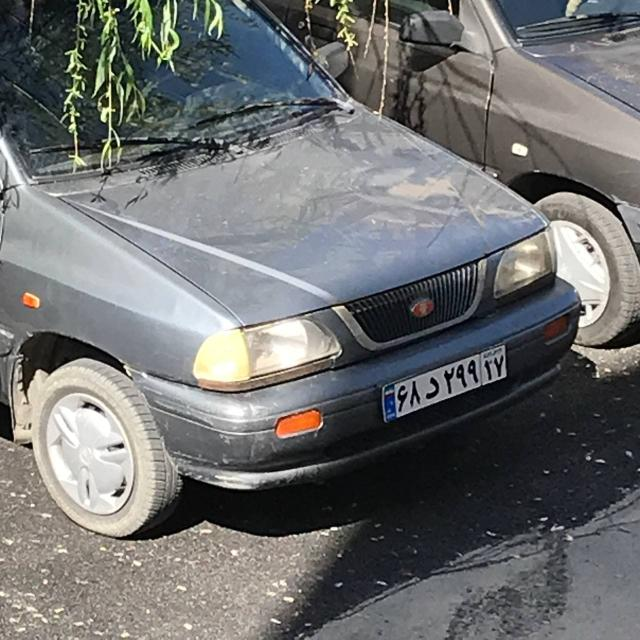Plates: (375, 342, 516, 422)
